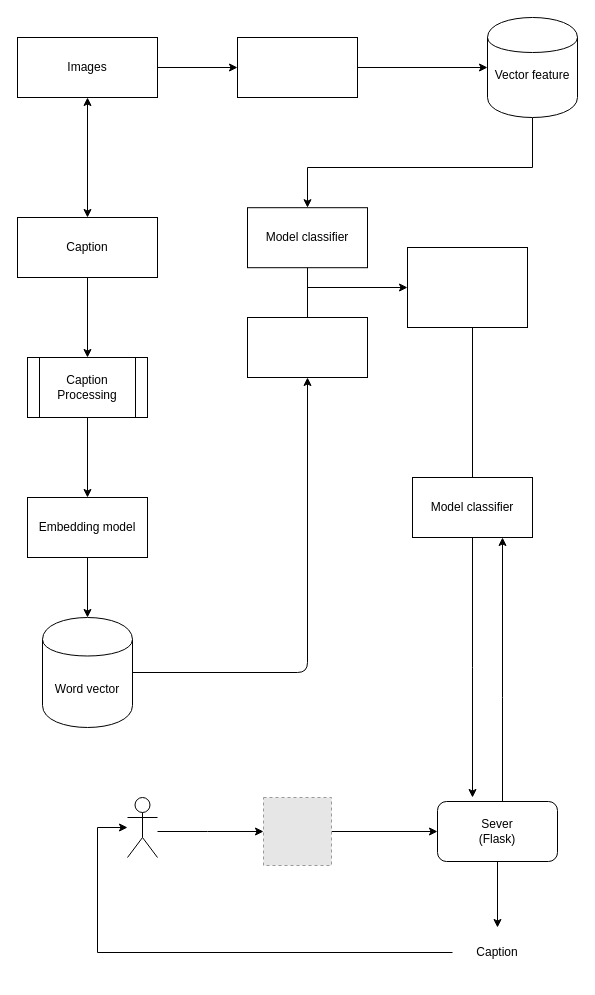
Some shapes in this 595 by 995 pixel diagram are drawn without their labels. Grey dashed boxes stand in for pictures. Each missing label, with the centre of its shape:
"Actor" belongs at (142,827).
"Dense (For same shape)" belongs at (467,287).
"LSTM model" belongs at (307,347).
"Model" belongs at (297,67).
